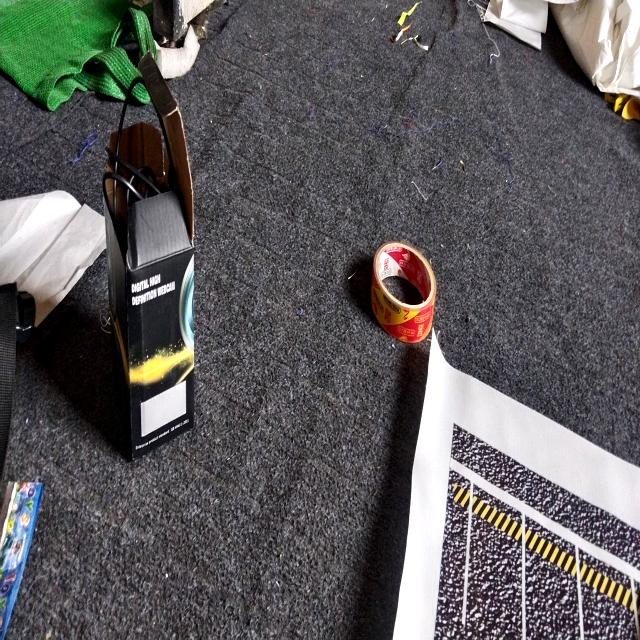others: (102, 54, 194, 458), (0, 0, 157, 111), (484, 0, 640, 98), (0, 191, 106, 326), (370, 242, 437, 344), (0, 482, 43, 640), (0, 283, 17, 475), (394, 2, 420, 42), (614, 94, 640, 121), (398, 3, 420, 25), (401, 35, 429, 51)
slots: (450, 487, 522, 640), (525, 539, 580, 640)
